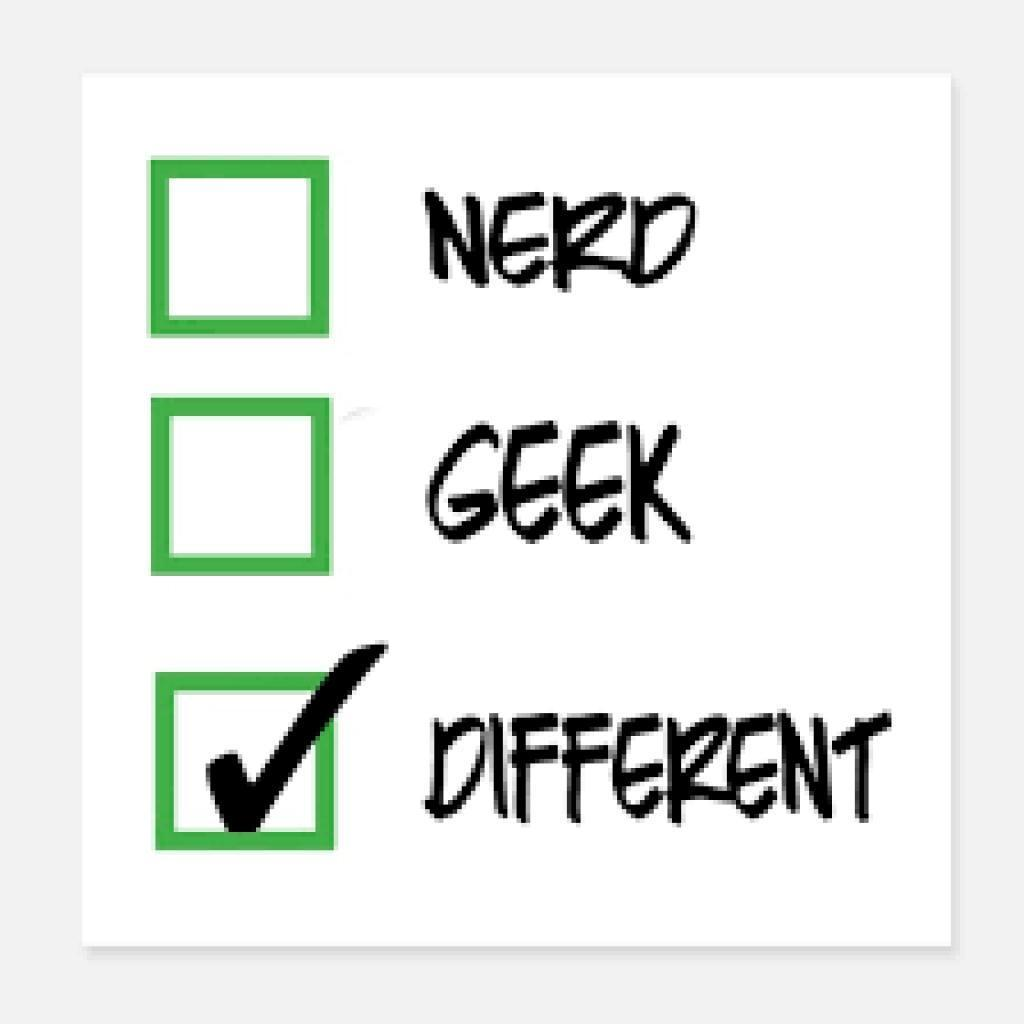checkbox: (162, 678, 329, 851), (155, 401, 328, 567), (158, 163, 323, 332)
